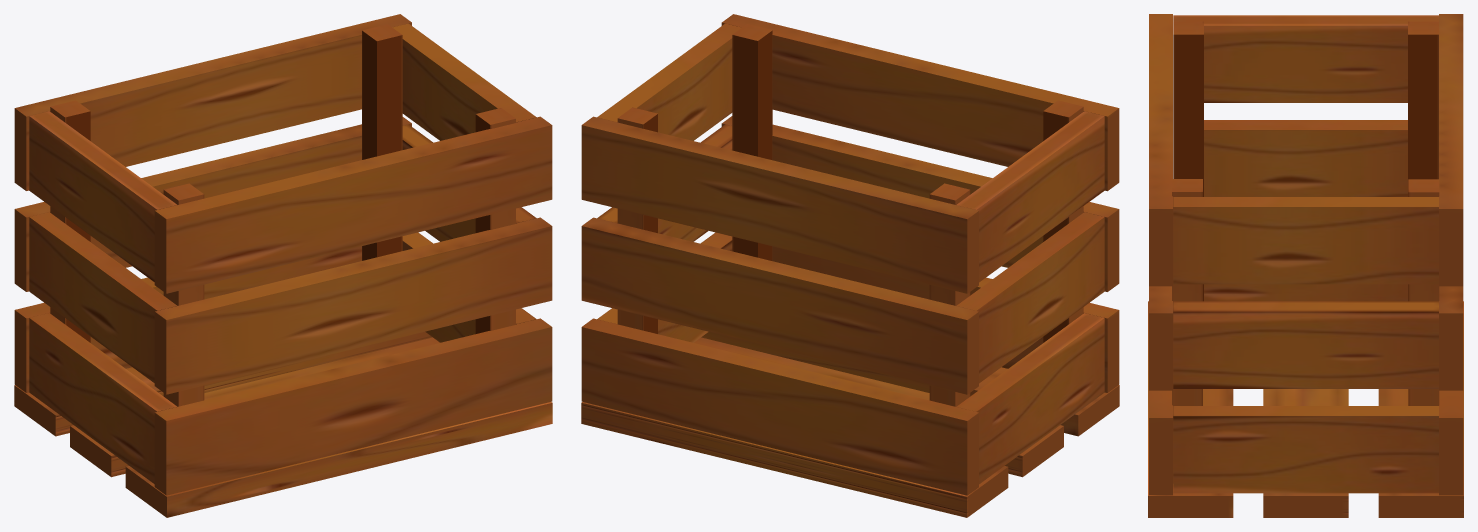
Rendered from CaixaMadeira4.fbx.
3 views of the same model, side by side, from view 1: azimuth 30°, elevation 25°; view 2: azimuth 150°, elevation 25°; view 3: azimuth 270°, elevation 25° (orthographic). The views are drawn at different scales.
Parts seen in each view (by area): view 1: CaixaMadeira4; view 2: CaixaMadeira4; view 3: CaixaMadeira4.
Part boxes in pixels (x1,y1,x2,y2): CaixaMadeira4: (14,14,552,517); CaixaMadeira4: (581,14,1119,517); CaixaMadeira4: (1148,14,1463,517).
Bounding box in the file's own units: 134 × 100 × 91.53.
